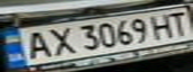0: (97, 19, 118, 48)
3: (75, 21, 100, 52)
6: (115, 17, 136, 46)
9: (130, 16, 154, 43)
A: (18, 28, 54, 61)
H: (148, 11, 178, 39)
T: (163, 9, 193, 36)
X: (42, 25, 78, 57)
